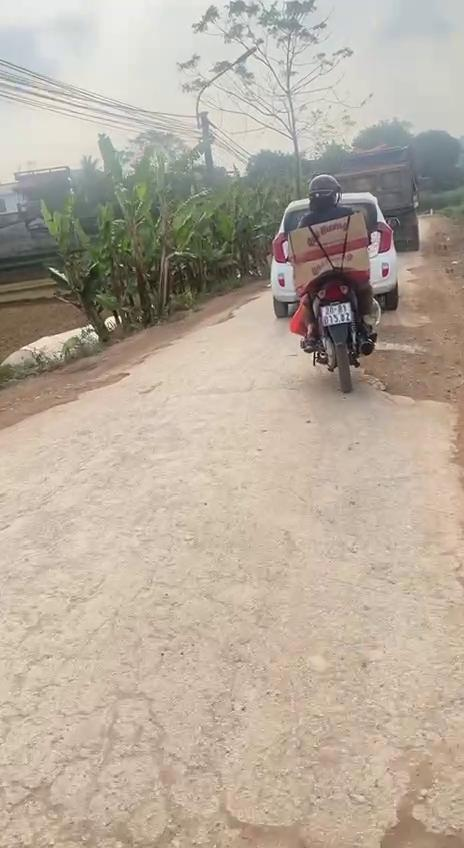pothole: (369, 759, 464, 848), (173, 786, 308, 848), (352, 339, 454, 407)
